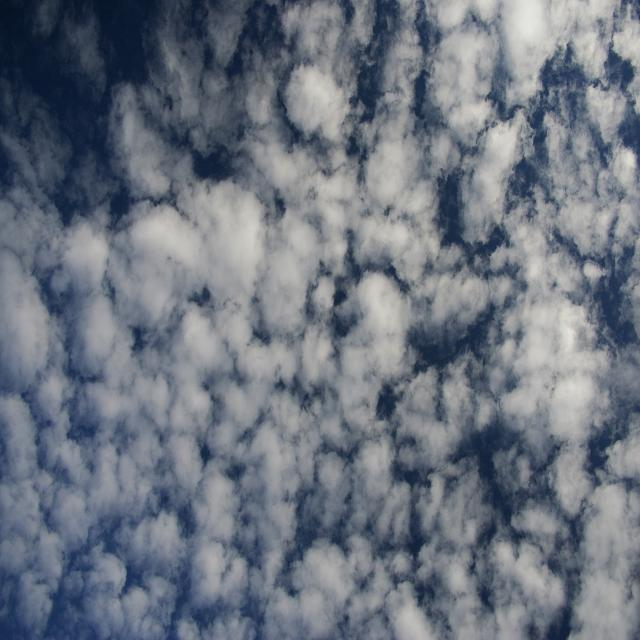altocumulus: (8, 28, 618, 625)
